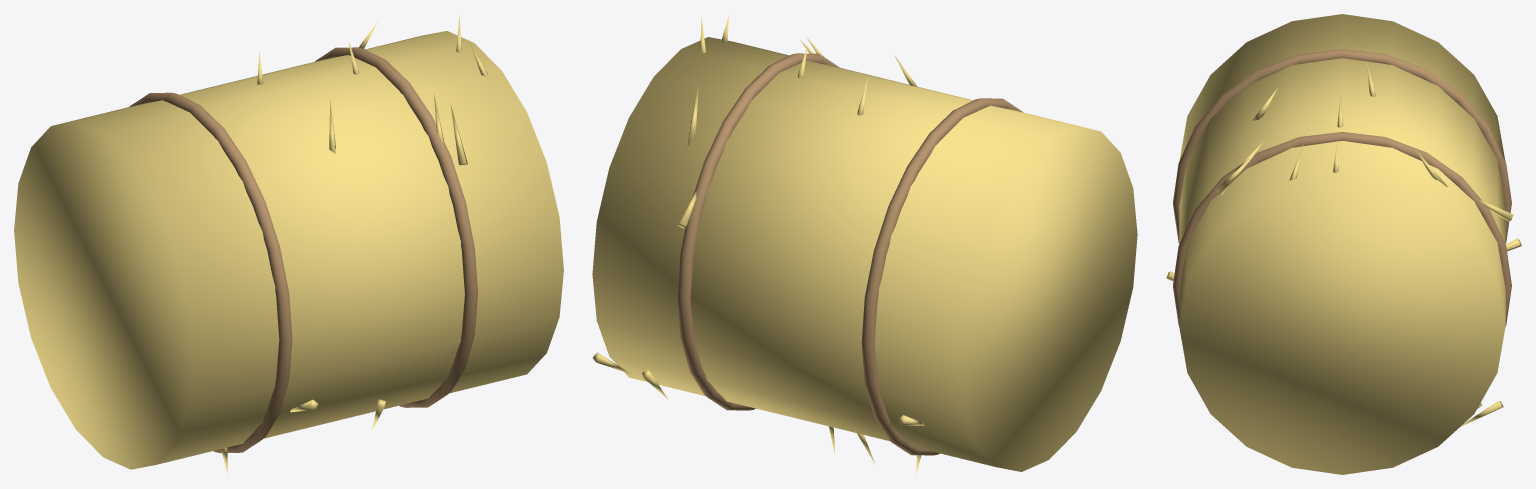
The model's file is world_haybale.glb.
The picture shows the model from 3 angles, left to right: view 1: azimuth 30°, elevation 25°; view 2: azimuth 150°, elevation 25°; view 3: azimuth 270°, elevation 25°; orthographic projection. The views are drawn at different scales.
Visible parts, largest first — view 1: world_haybale; view 2: world_haybale; view 3: world_haybale.
Part boxes in pixels (bbox=[...]): world_haybale: bbox=[14, 14, 563, 474]; world_haybale: bbox=[592, 14, 1137, 474]; world_haybale: bbox=[1166, 14, 1521, 474].
Size of the model in its own units: 1.21 by 1.2 by 1.09.
